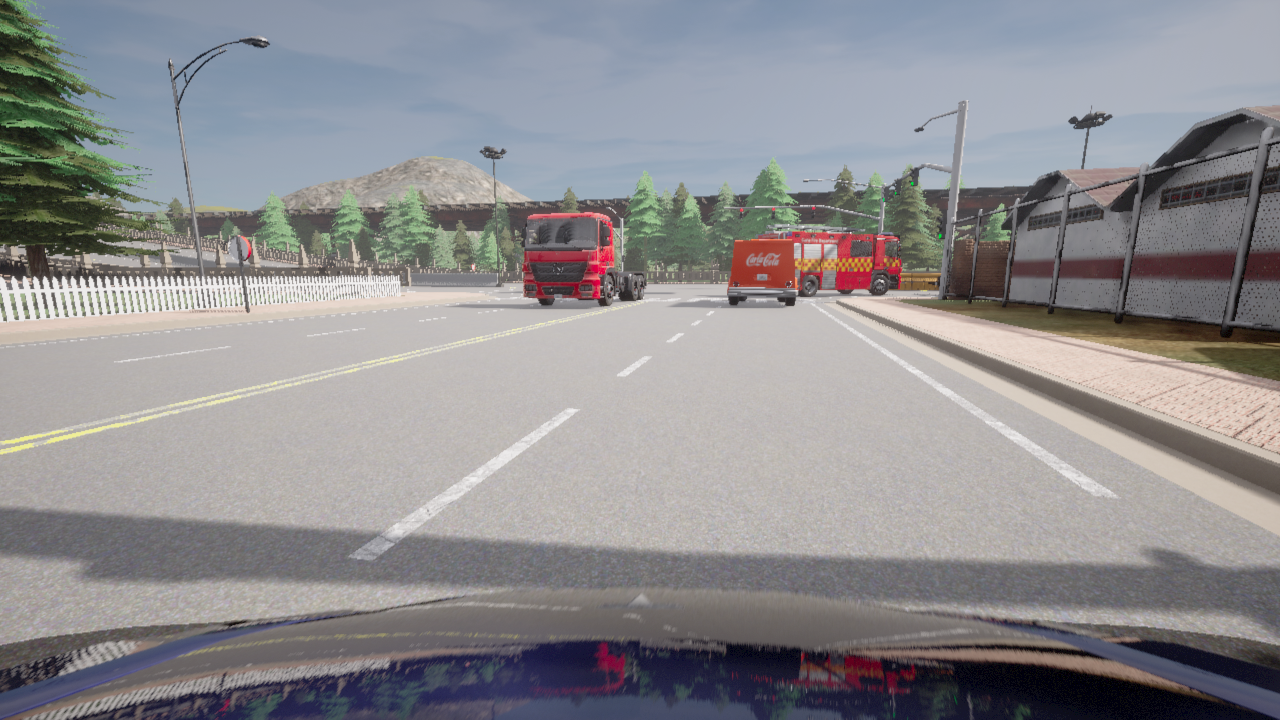cyclist: (0, 588, 1279, 719), (521, 213, 646, 306), (755, 224, 901, 296), (727, 239, 797, 305), (928, 275, 950, 292)
